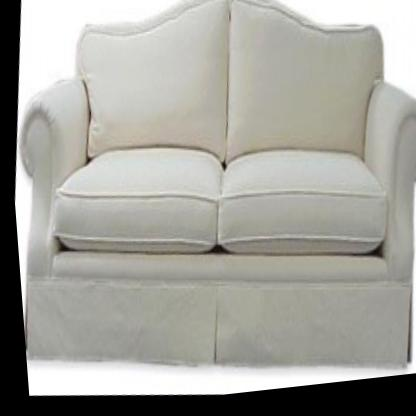Sofa: (0, 0, 416, 411)
